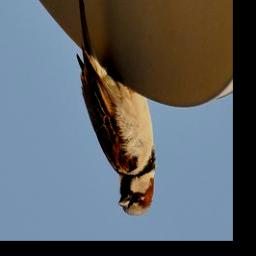Swallow: (77, 0, 158, 217)
